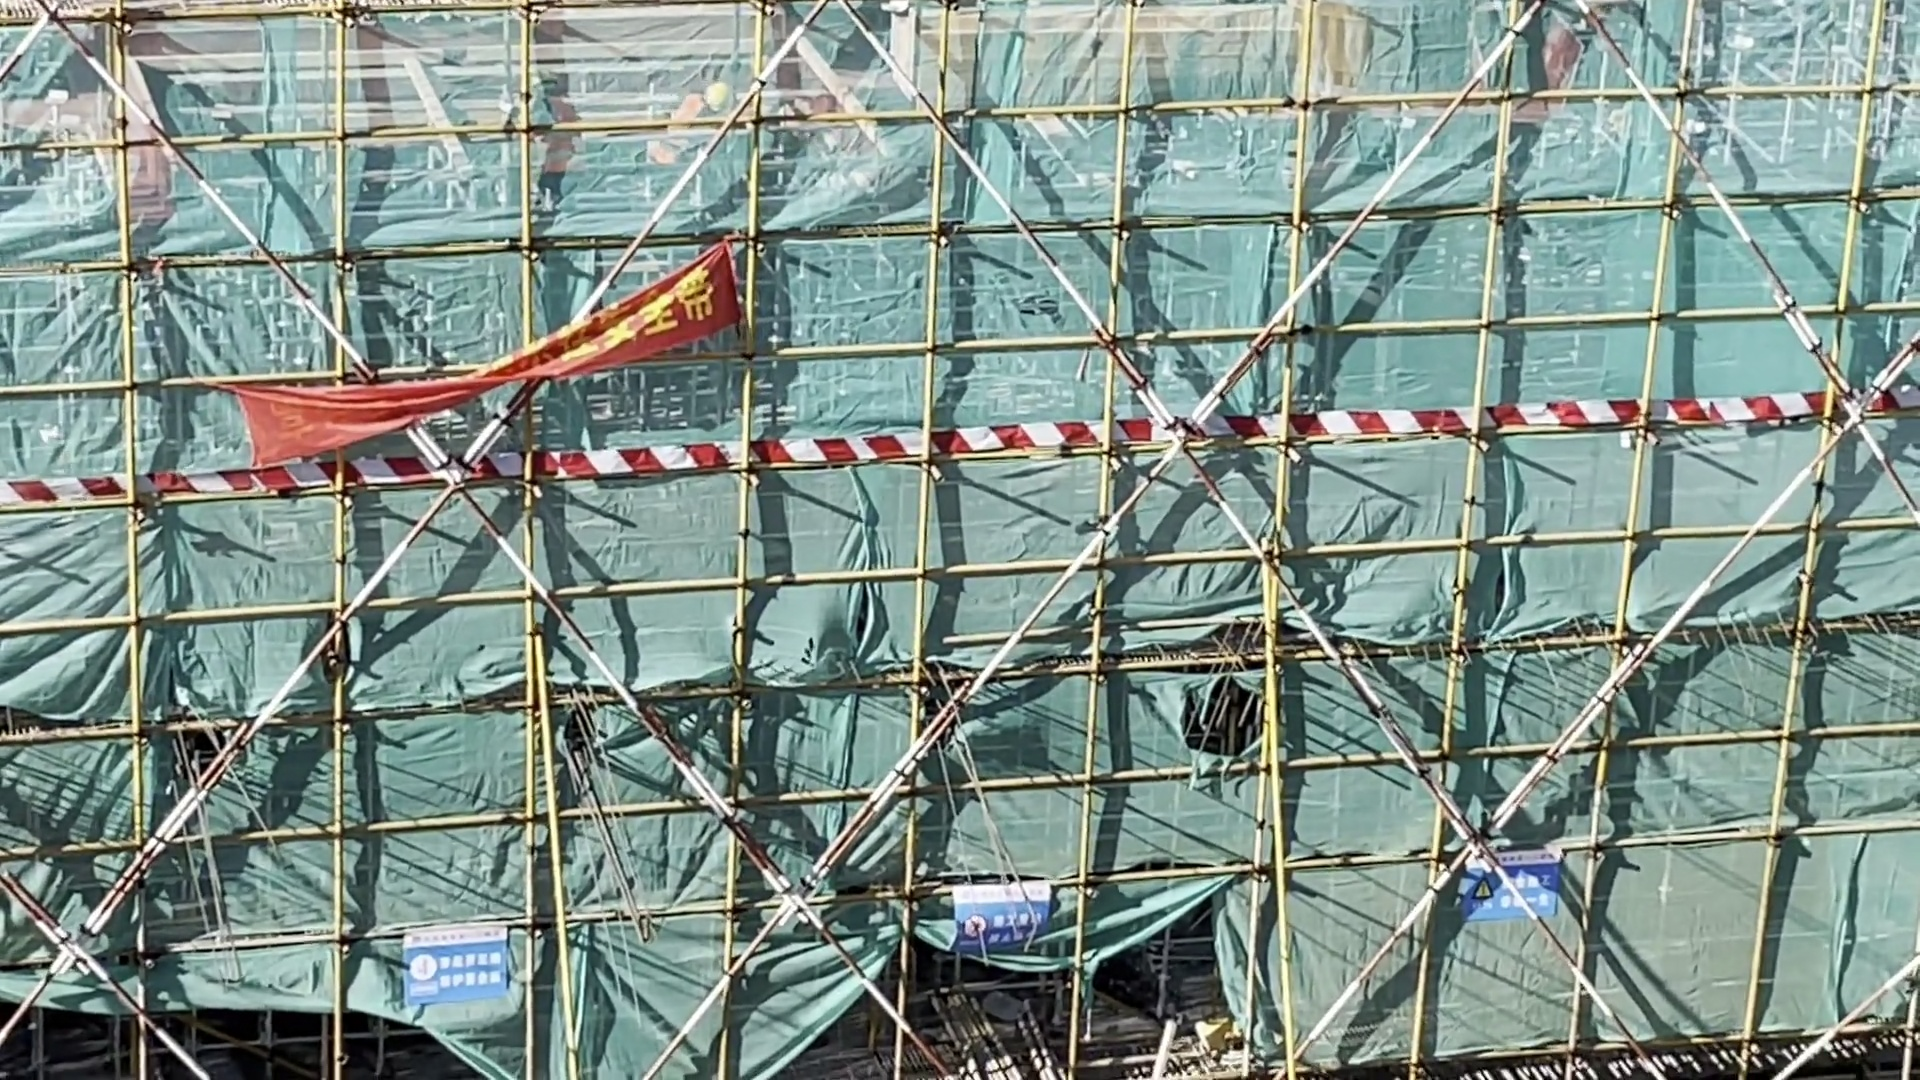slogan: (195, 214, 758, 473), (945, 864, 1069, 980), (394, 902, 513, 1007), (1455, 835, 1571, 935)
